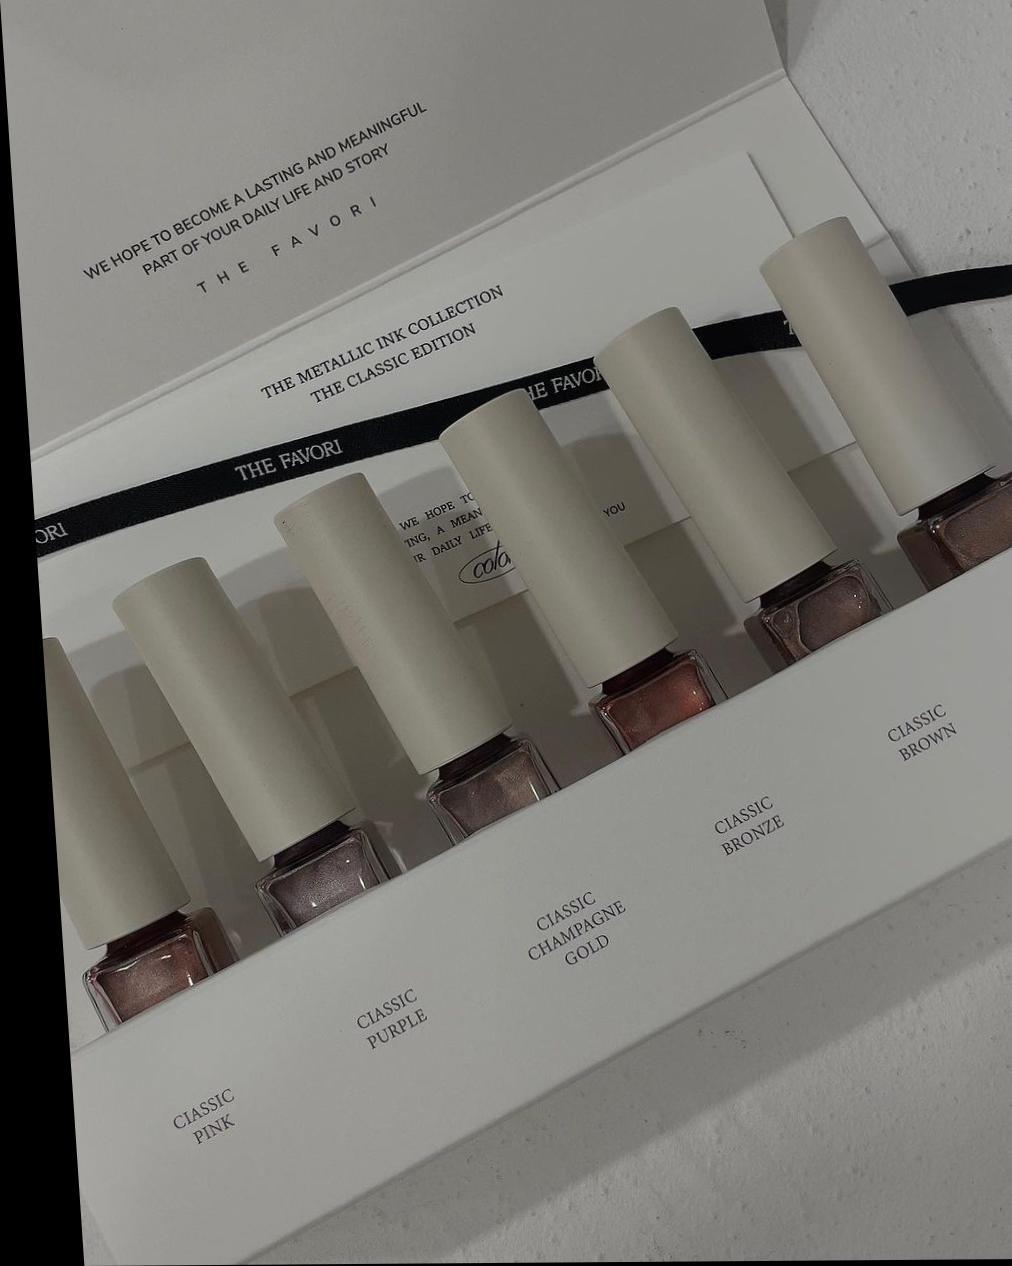nail: (14, 212, 1012, 1030)
